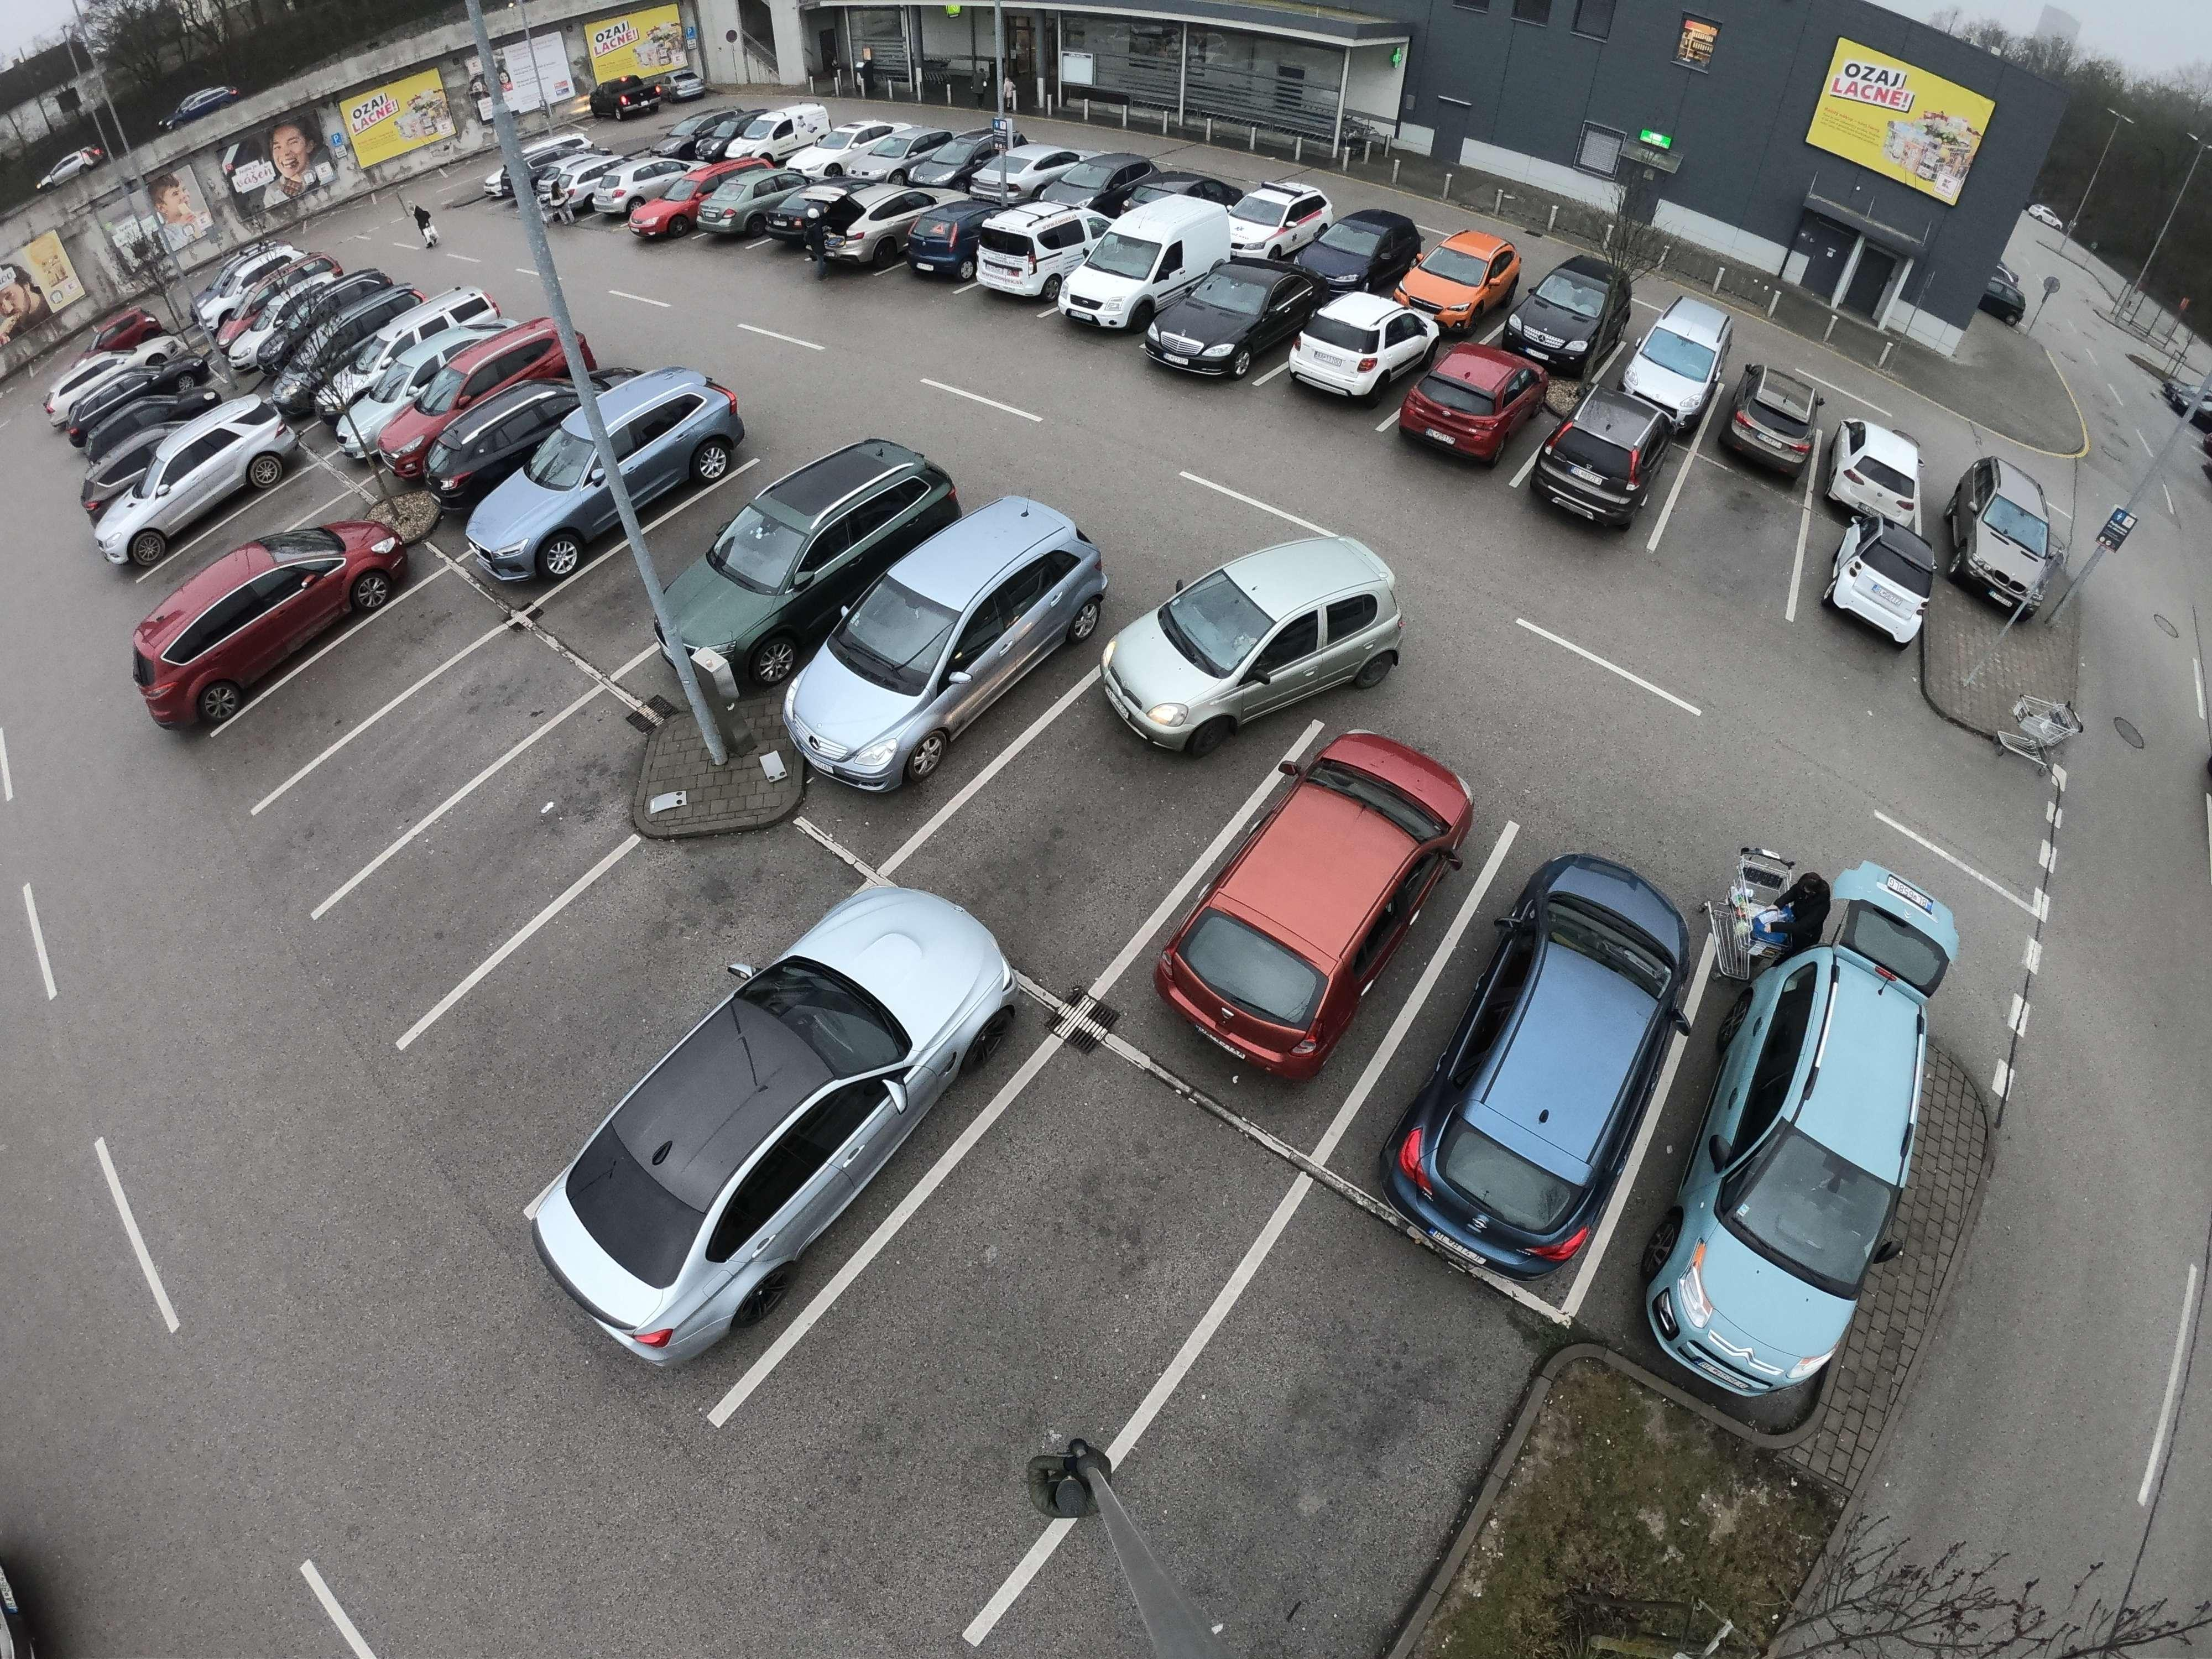empty: (521, 908, 1045, 1364), (1672, 857, 1951, 1420), (1420, 816, 1716, 1262), (1143, 734, 1460, 1077), (779, 505, 1106, 782), (1083, 549, 1400, 756), (683, 446, 932, 655), (474, 380, 732, 579), (141, 512, 388, 713), (374, 315, 583, 484), (96, 418, 282, 559), (1536, 385, 1688, 525), (1160, 267, 1322, 383), (1064, 213, 1205, 340), (1289, 288, 1442, 404), (1395, 352, 1541, 472), (1811, 521, 1944, 650), (1951, 464, 2071, 603), (1500, 258, 1623, 364), (963, 195, 1089, 300), (1608, 308, 1726, 415), (82, 376, 225, 464), (1714, 364, 1831, 471), (1827, 413, 1935, 525), (1395, 221, 1514, 312), (1216, 181, 1331, 256), (709, 160, 815, 237), (900, 195, 993, 282), (1318, 209, 1418, 289), (1111, 162, 1237, 221)
occupied: (913, 1197, 1170, 1394), (1170, 1391, 1428, 1574), (526, 922, 686, 1053), (427, 803, 563, 899), (1688, 479, 1799, 572), (380, 711, 495, 786), (185, 491, 296, 556), (287, 650, 388, 716)
